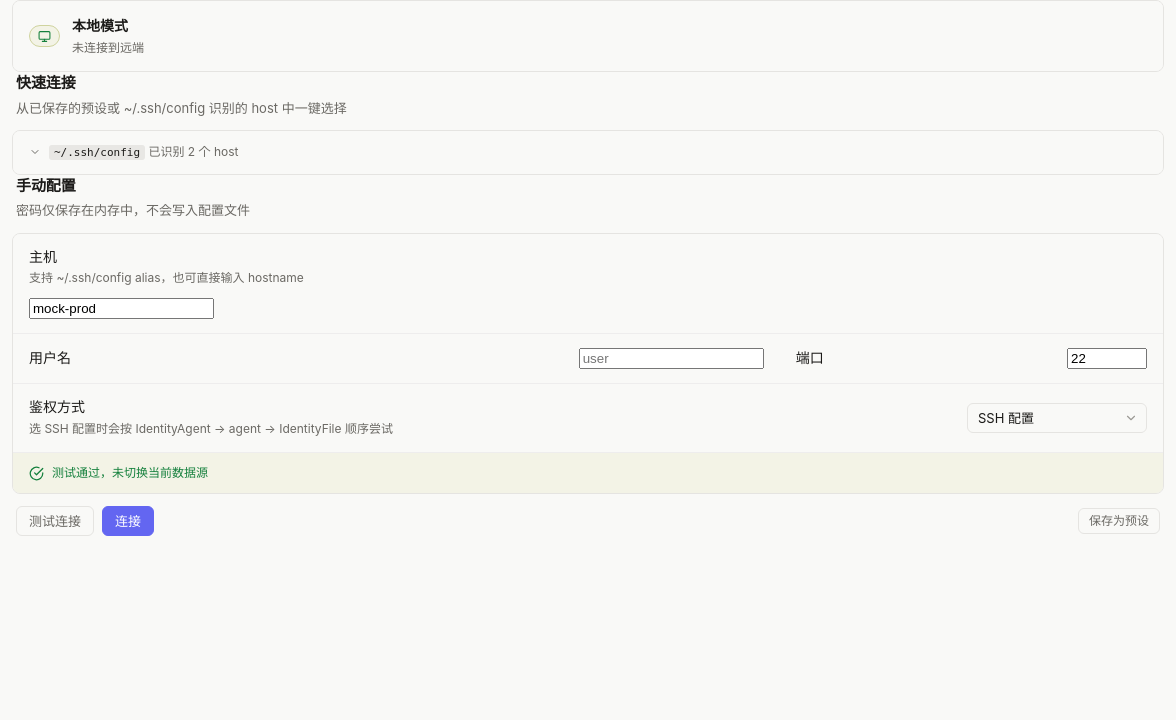
it: Connection settings form › 端口超出范围时禁用提交按钮
This screenshot has width=1176, height=720.
Replace the text in the field labelled "主机" with "example.com" at (122, 309), box x1=29 y1=298 x2=214 y2=319
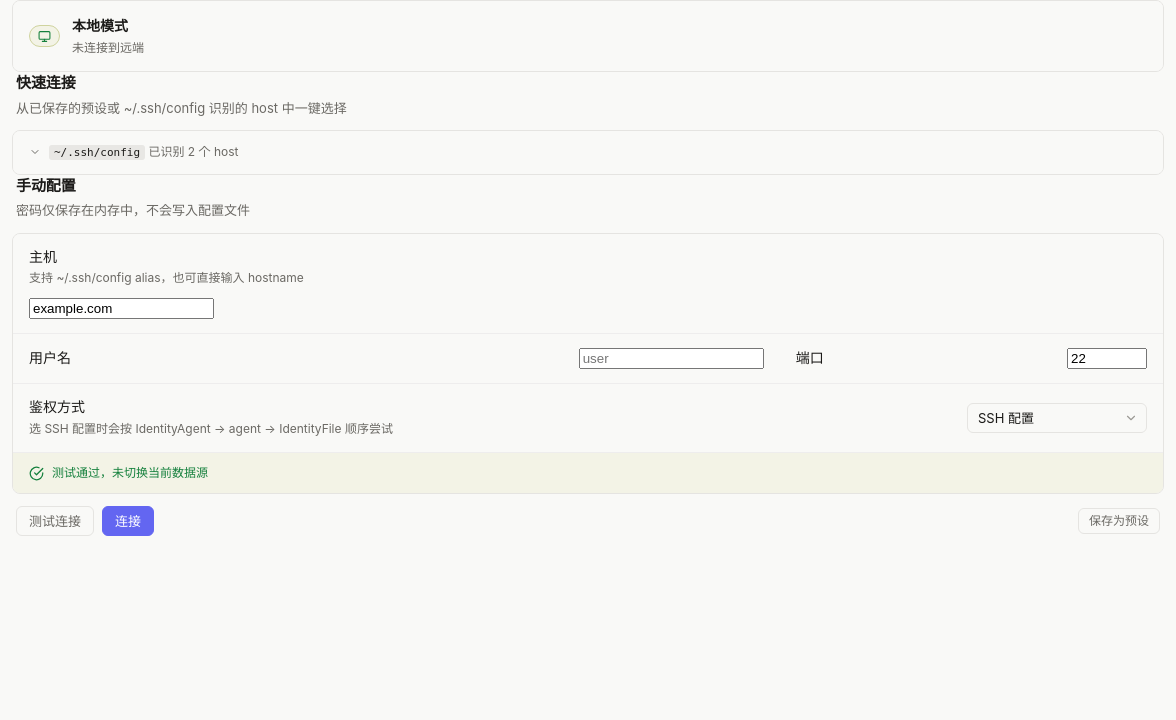
Replace the text in the number field labelled "端口" with "0" at (1107, 359), box x1=1067 y1=348 x2=1147 y2=369
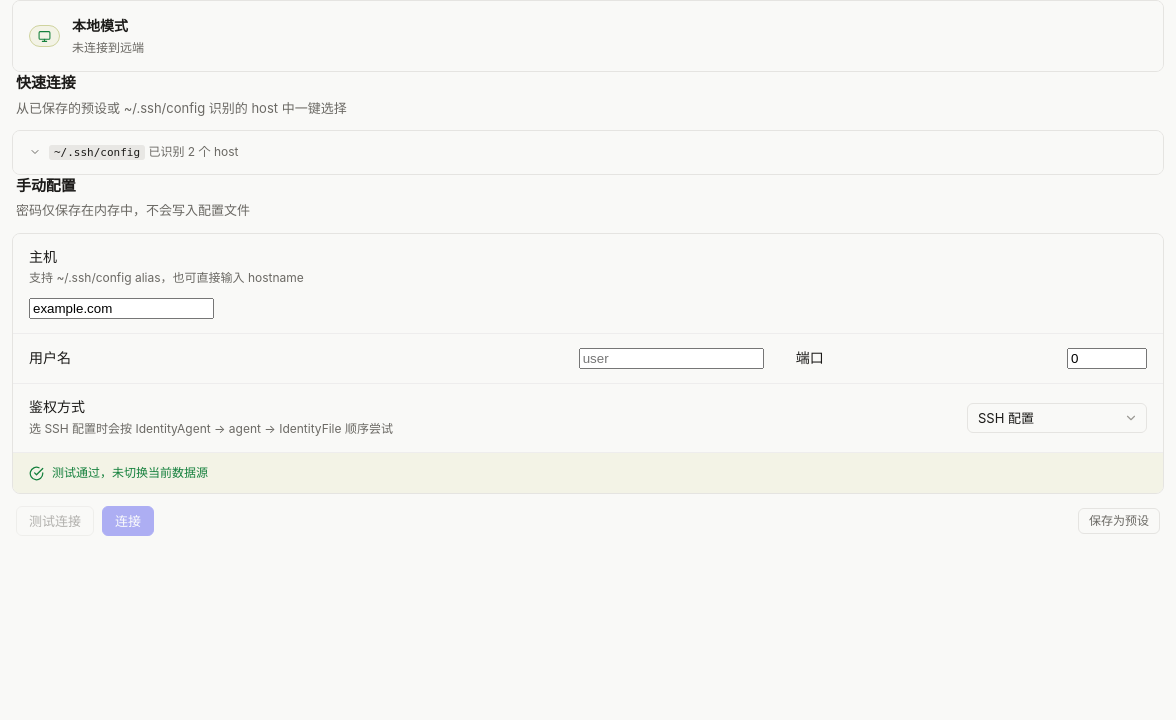
Now the button "连接" is disabled, box x1=102 y1=506 x2=154 y2=536
Now the button "测试连接" is disabled, box x1=16 y1=506 x2=94 y2=536
Replace the text in the number field labelled "端口" with "22" at (1107, 359), box x1=1067 y1=348 x2=1147 y2=369
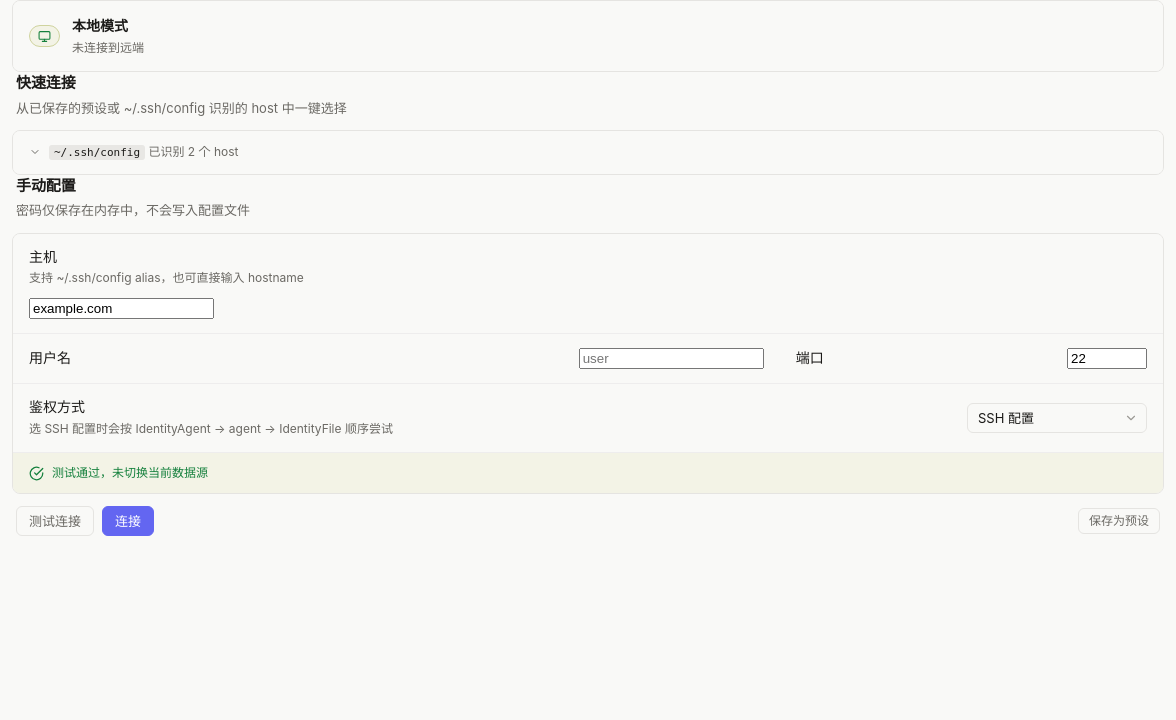
Now the button "连接" is enabled, box x1=102 y1=506 x2=154 y2=536
